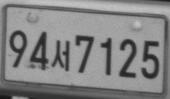1: (97, 37, 116, 75)
2: (117, 37, 137, 77)
4: (29, 31, 49, 70)
5: (140, 40, 160, 78)
7: (74, 34, 95, 73)
9: (8, 29, 27, 68)
서: (50, 39, 70, 71)
